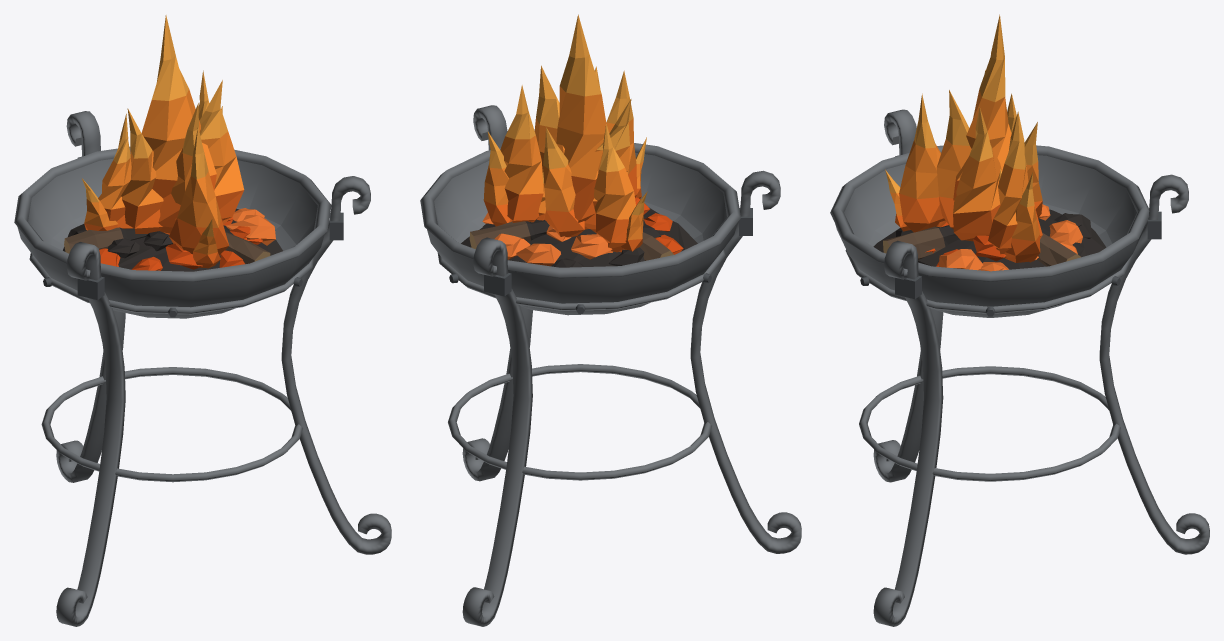
Rendered from SM_LPD_Light_BrazierTripodLit_01.fbx.
3 renders of one model, left to right at view 1: azimuth 30°, elevation 25°; view 2: azimuth 150°, elevation 25°; view 3: azimuth 270°, elevation 25°, orthographic.
Visible parts, largest first — view 1: SM_LPD_Light_BrazierTripodLit_01; view 2: SM_LPD_Light_BrazierTripodLit_01; view 3: SM_LPD_Light_BrazierTripodLit_01.
Part boxes in pixels (bbox=[...]): SM_LPD_Light_BrazierTripodLit_01: bbox=[14, 15, 391, 626]; SM_LPD_Light_BrazierTripodLit_01: bbox=[420, 14, 801, 626]; SM_LPD_Light_BrazierTripodLit_01: bbox=[830, 14, 1209, 626].
Bounding box in the file's own units: 0.8328 × 1.27 × 0.8145.
